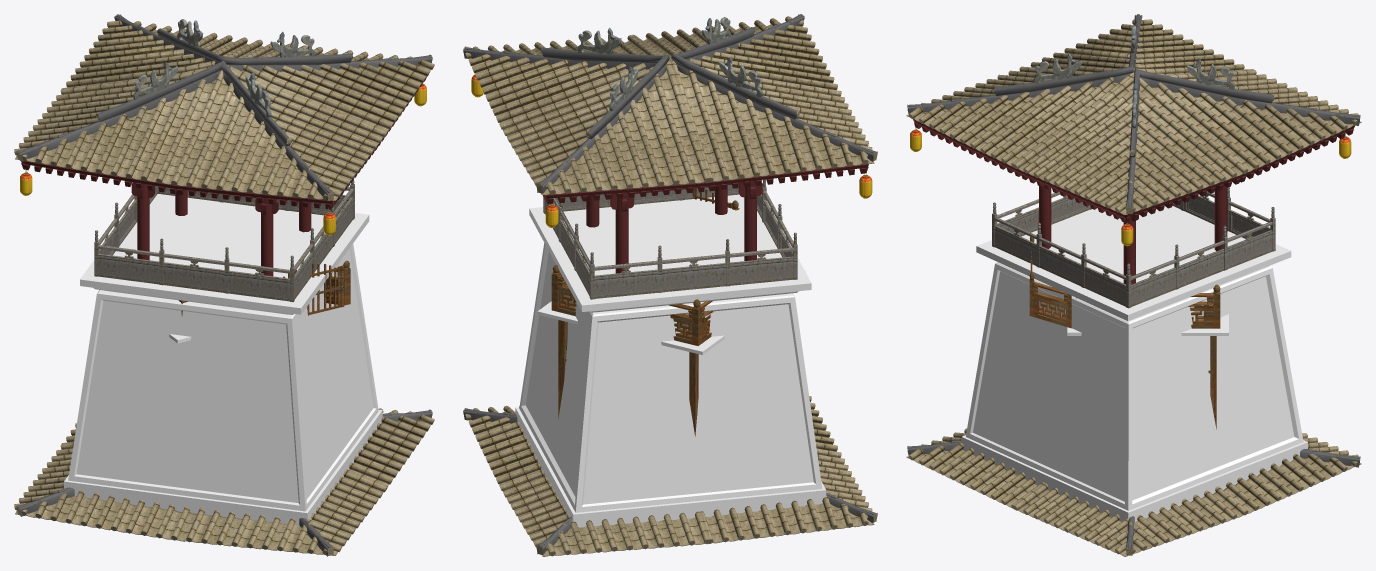
The model's file is gujian5.glb.
3 views of the same model, side by side, from view 1: azimuth 30°, elevation 25°; view 2: azimuth 150°, elevation 25°; view 3: azimuth 270°, elevation 25° (orthographic). The views are drawn at different scales.
Parts seen in each view (by area): view 1: Object69.001, Cylinder342.003, Cylinder342.001, Object66.001, Object2829.002, Shape25.003, Cylinder879.002, Object55.001, Object68.001, Shape25.001, Box2155, Object2569.001 (+2 smaller); view 2: Object69.001, Cylinder342.003, Cylinder342.001, Object66.001, Object2829.002, Shape25.003, Cylinder879.002, Object55.001, Object68.001, Box2146, Shape25.001, Rectangle2338 (+4 smaller); view 3: Object69.001, Cylinder342.003, Cylinder342.001, Object2829.002, Object66.001, Shape25.003, Cylinder879.002, Object55.001, Object68.001, Shape25.001, Object2566.001, Object2568.001 (+2 smaller).
Boxes of the visible parts, x1=… form: Object69.001: x1=68, y1=243, x2=378, y2=511; Cylinder342.003: x1=14, y1=14, x2=434, y2=200; Cylinder342.001: x1=14, y1=408, x2=434, y2=555; Object66.001: x1=80, y1=194, x2=368, y2=308; Object2829.002: x1=94, y1=179, x2=354, y2=302; Shape25.003: x1=16, y1=15, x2=432, y2=201; Cylinder879.002: x1=21, y1=76, x2=426, y2=276; Object55.001: x1=64, y1=410, x2=382, y2=524; Object68.001: x1=80, y1=215, x2=369, y2=314; Shape25.001: x1=16, y1=410, x2=432, y2=556; Box2155: x1=307, y1=263, x2=344, y2=315; Object2569.001: x1=133, y1=61, x2=177, y2=99; Object69.001: x1=519, y1=243, x2=822, y2=512; Cylinder342.003: x1=463, y1=14, x2=877, y2=195; Cylinder342.001: x1=463, y1=396, x2=877, y2=556; Object66.001: x1=529, y1=194, x2=811, y2=305; Object2829.002: x1=543, y1=179, x2=797, y2=299; Shape25.003: x1=463, y1=15, x2=877, y2=193; Cylinder879.002: x1=510, y1=142, x2=868, y2=273; Object55.001: x1=515, y1=407, x2=826, y2=527; Object68.001: x1=529, y1=209, x2=811, y2=312; Box2146: x1=558, y1=320, x2=698, y2=436; Shape25.001: x1=463, y1=408, x2=877, y2=554; Rectangle2338: x1=537, y1=301, x2=724, y2=354; Object69.001: x1=965, y1=262, x2=1303, y2=510; Cylinder342.003: x1=906, y1=14, x2=1361, y2=215; Cylinder342.001: x1=906, y1=428, x2=1361, y2=556; Object2829.002: x1=992, y1=187, x2=1275, y2=308; Object66.001: x1=977, y1=206, x2=1290, y2=314; Shape25.003: x1=907, y1=14, x2=1360, y2=209; Cylinder879.002: x1=913, y1=119, x2=1354, y2=284; Object55.001: x1=961, y1=435, x2=1307, y2=522; Object68.001: x1=976, y1=246, x2=1291, y2=320; Shape25.001: x1=907, y1=440, x2=1360, y2=550; Object2566.001: x1=1033, y1=53, x2=1081, y2=83; Object2568.001: x1=1187, y1=58, x2=1234, y2=89.
Bounding box in the file's own units: 14.64 × 14.51 × 14.64.
Materials: 14 (9 with a texture image).
